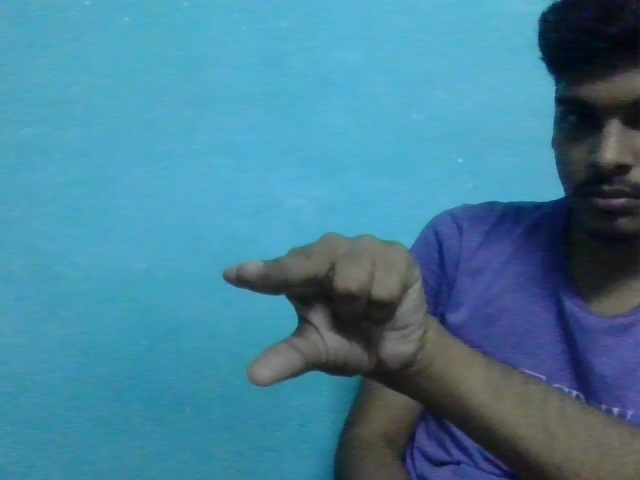no: (217, 227, 432, 389)
